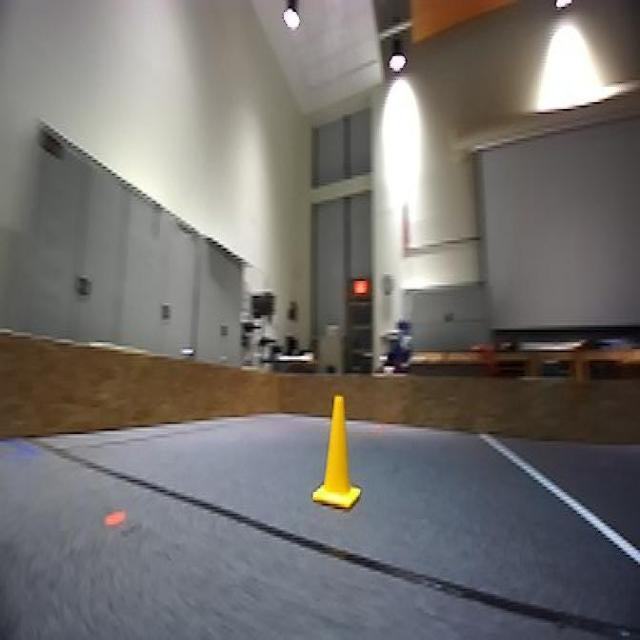frc_cone: (312, 392, 357, 511)
